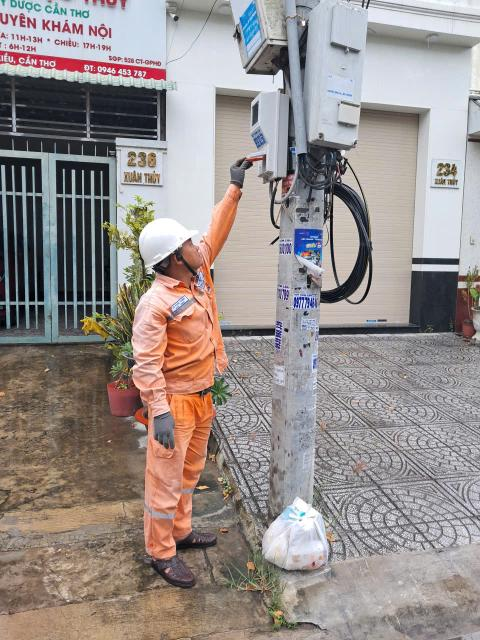gloves: (150, 388, 183, 450), (222, 154, 261, 186)
helmet: (113, 206, 218, 272)
shoes: (143, 541, 201, 600), (170, 516, 222, 548)
